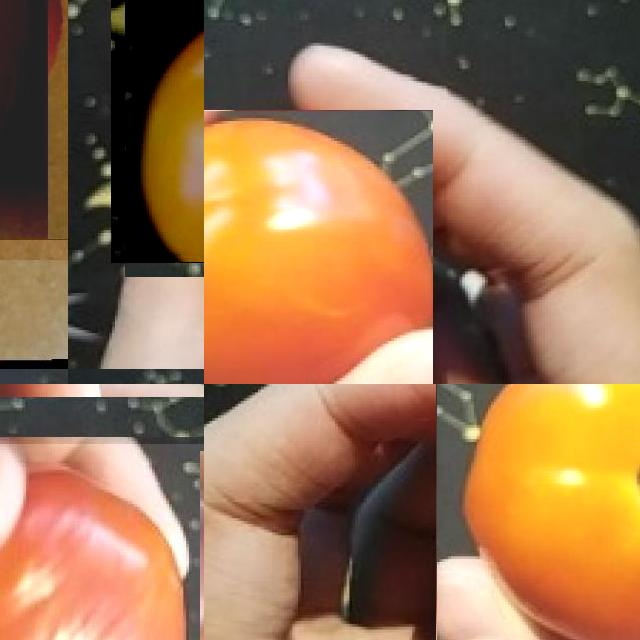0: (111, 0, 204, 262), (0, 0, 68, 239)
Fresh Tomato: (204, 110, 433, 384), (435, 384, 640, 640)
Rotten Tomato: (0, 443, 204, 640)
